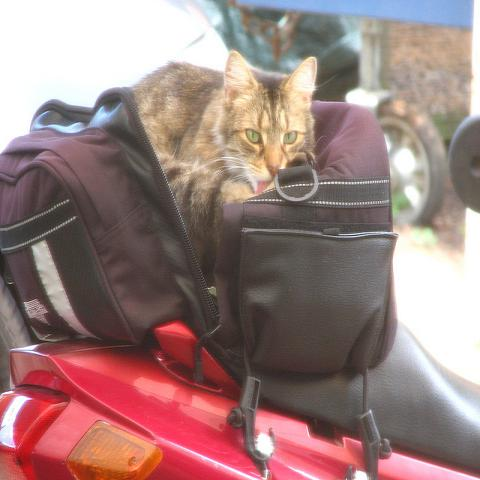motorcycle: (1, 281, 479, 476), (311, 29, 445, 232)
